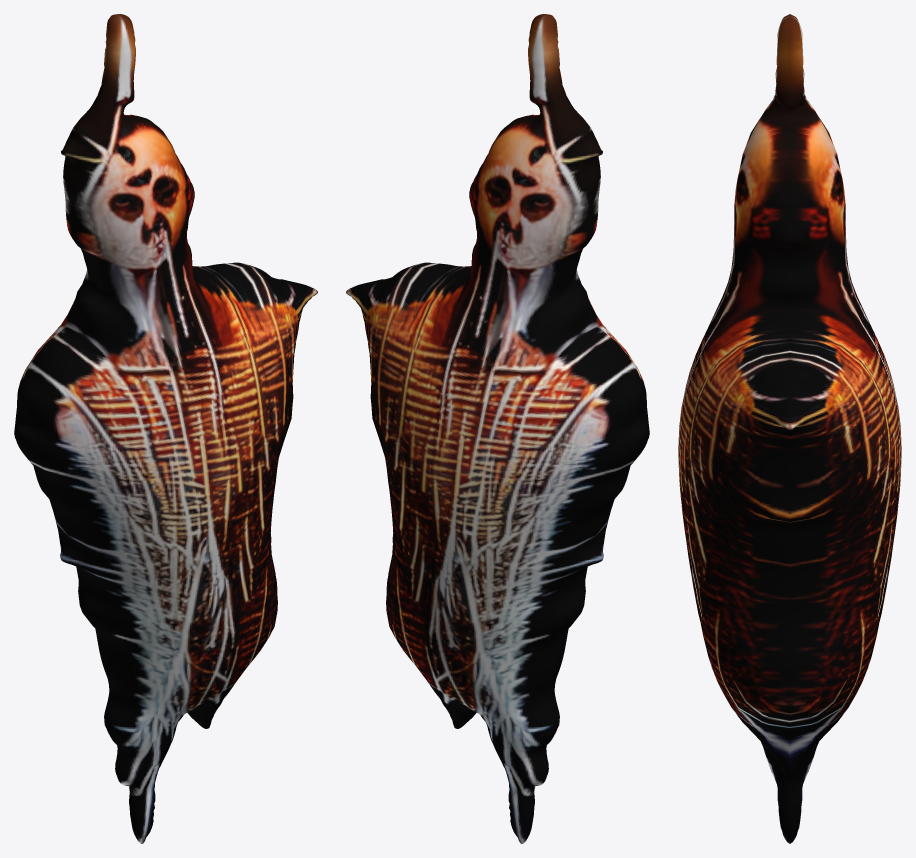
The model's file is light.glb.
3 renders of one model, left to right at view 1: azimuth 30°, elevation 25°; view 2: azimuth 150°, elevation 25°; view 3: azimuth 270°, elevation 25°, orthographic. The views are drawn at different scales.
Size of the model in its own units: 2.36 by 6.3 by 1.56.
1 material, 1 textured.
